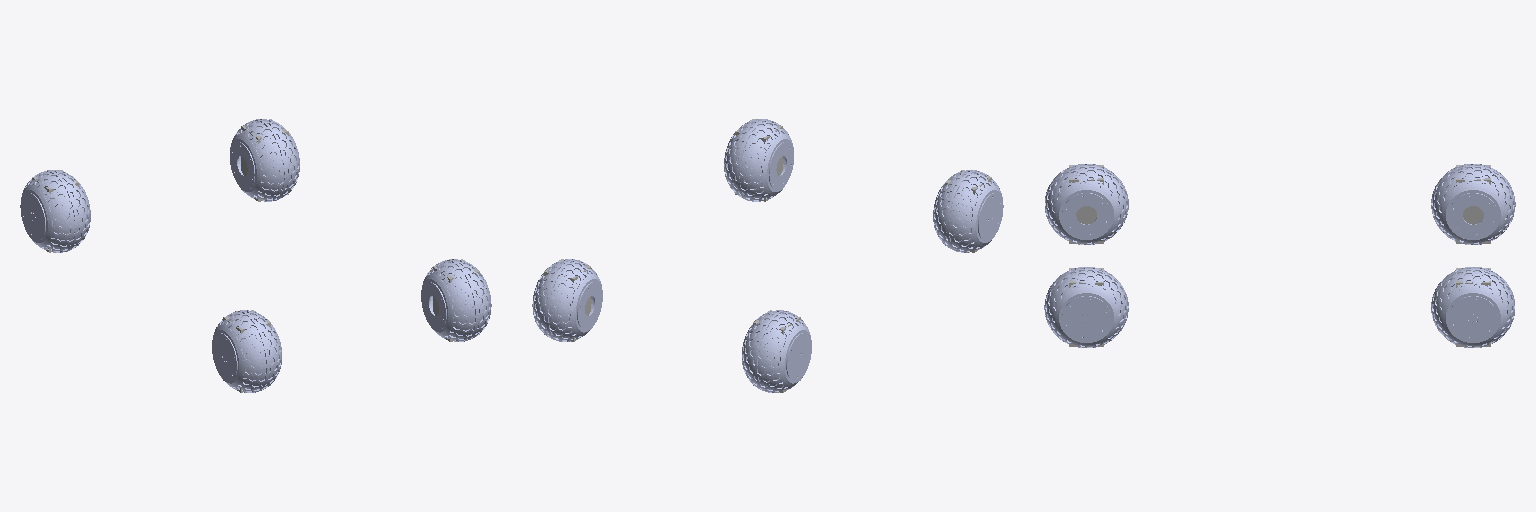
robot.urdf — Master_ASM:
<?xml version="1.0" encoding="utf-8"?>
<!-- This URDF was automatically created by SolidWorks to URDF Exporter! Originally created by [author] ([email redacted]) 
     Commit Version: 1.6.0-4-g7f85cfe  Build Version: 1.6.7995.38578
     For more information, please see http://wiki.ros.org/sw_urdf_exporter -->
<robot
  name="Master_ASM">
  <link
    name="base_link">
    <inertial>
      <origin
        xyz="0.0012829 -0.31468 -0.0059364"
        rpy="0 0 0" />
      <mass
        value="38.039" />
      <inertia
        ixx="0.51975"
        ixy="0.00069908"
        ixz="2.9544E-06"
        iyy="0.93889"
        iyz="-3.8081E-06"
        izz="0.5273" />
    </inertial>
    <visual>
      <origin
        xyz="0 0 0"
        rpy="0 0 0" />
      <geometry>
        <mesh
          filename="../meshes/base_link.STL" />
      </geometry>
      <material
        name="">
        <color
          rgba="0.79216 0.81961 0.93333 1" />
      </material>
    </visual>
    <collision>
      <origin
        xyz="0 0 -0.2" 
        rpy="0 0 0" /> <!-- -0.2 -->
      <geometry>
        <box size="0.73 1.4 0.6" />
      </geometry>
    </collision>
  </link>

  <joint name="camera_joint" type="fixed">
      <parent link="base_link"/>
      <child link="camera_link"/>
      <origin xyz="0.35 0 0.05" rpy="0 0 0"/>
  </joint>

  <link name="camera_link">
    <visual>
      <geometry>
        <mesh filename="../meshes/zed2i.stl" />
      </geometry>
      <material name="zed2i_mat">
        <color rgba="0.25 0.25 0.25 0.99"/>
      </material>
    </visual>
    <collision>
      <geometry>
        <mesh filename="../meshes/zed2i.stl" />
      </geometry>
    </collision>
  </link>

  <!-- <joint name="camera_optical_joint" type="fixed">
      <parent link="camera_link"/>
      <child link="camera_link_optical"/>
      <origin xyz="0 0 0" rpy="1.57 0 1.57"/>
  </joint>

  <link name="camera_link_optical"></link> -->
 
  <gazebo reference="camera_link">
      <sensor name="camera" type="camera">
          <pose> 0 0 0 0 0 0 </pose>
          <!-- <visualize>true</visualize> -->
          <update_rate>30</update_rate>
          <camera>
              <horizontal_fov>1.91986</horizontal_fov>
              <image>
                  <format>R8G8B8</format>
                  <width>1280</width>
                  <height>720</height>
              </image>
              <clip>
                  <near>0.05</near>
                  <far>8.0</far>
              </clip>
          </camera>
          <topic>camera</topic>
      </sensor>
  </gazebo>

  <link
    name="swerve1_Link">
    <inertial>
      <origin
        xyz="0.072878 0.028694 7.0574E-06"
        rpy="0 0 0" />
      <mass
        value="2.5211" />
      <inertia
        ixx="0.008233"
        ixy="5.8978E-05"
        ixz="5.7912E-08"
        iyy="0.006818"
        iyz="1.2459E-07"
        izz="0.0069443" />
    </inertial>
    <visual>
      <origin
        xyz="0 0 0"
        rpy="0 0 0" />
      <geometry>
        <box size="0.1 0.2 0.1" />
      </geometry>
      <material
        name="">
        <color
          rgba="0.75294 0.75294 0.75294 1" />
      </material>
    </visual>
  </link>
  <joint
    name="swerve1_joint"
    type="continuous"> <!-- continuous -->
    <origin
      xyz="-0.34701 0.55026 -0.59563"
      rpy="1.5708 0 0" />
    <parent
      link="base_link" />
    <child
      link="swerve1_Link" />
    <axis
      xyz="0 1 0" />
    <!-- <limit lower="6.28" upper="6.28" effort="30" velocity="1.0" /> -->
  </joint>
  <link
    name="wheel1_Link">
    <inertial>
      <origin
        xyz="2.9097E-09 -0.115 -0.00055956"
        rpy="0 0 0" />
      <mass
        value="1.1372" />
      <inertia
        ixx="0.0059462"
        ixy="1.6529E-09"
        ixz="-6.3363E-10"
        iyy="0.0059468"
        iyz="6.9163E-09"
        izz="0.0072591" />
    </inertial>
    <visual>
      <origin
        xyz="0 0.115 0"
        rpy="0 0 0" />
      <geometry>
        <mesh
          filename="../meshes/wheel_Link.STL" />
      </geometry>
      <material
        name="">
        <color
          rgba="0.79216 0.81961 0.93333 1" />
      </material>
    </visual>
    <collision>
      <origin
        xyz="0 0 0"
        rpy="0 0 0" />
      <geometry>
        <cylinder radius="0.115" length="0.2"/> 
      </geometry>
    </collision>
  </link>
  <joint
    name="wheel1_joint"
    type="continuous">
    <origin
      xyz="0 0 0"
      rpy="1.5708 0.34561 1.5708" />
    <parent
      link="swerve1_Link" />
    <child
      link="wheel1_Link" />
    <axis
      xyz="0 0 -1" />
  </joint>
  <link
    name="swerve2_Link">
    <inertial>
      <origin
        xyz="0.072878 0.028694 7.0574E-06"
        rpy="0 0 0" />
      <mass
        value="2.5211" />
      <inertia
        ixx="0.008233"
        ixy="5.8978E-05"
        ixz="5.7912E-08"
        iyy="0.006818"
        iyz="1.2459E-07"
        izz="0.0069443" />
    </inertial>
    <visual>
      <origin
        xyz="0 0 0"
        rpy="0 0 0" />
      <geometry>
        <box size="0.1 0.2 0.1" />
      </geometry>
      <material
        name="">
        <color
          rgba="0.75294 0.75294 0.75294 1" />
      </material>
    </visual>
  </link>
  <joint
    name="swerve2_joint"
    type="continuous"> <!-- continuous -->
    <origin
      xyz="0.34701 -0.55026 -0.59563"
      rpy="1.5708 0 3.1416" />
    <parent
      link="base_link" />
    <child
      link="swerve2_Link" />
    <axis
      xyz="0 1 0" />
    <!-- <limit lower="6.28" upper="6.28" effort="30" velocity="1.0" /> -->
  </joint>
  <link
    name="wheel2_Link">
    <inertial>
      <origin
        xyz="2.9097E-09 -0.115 -0.00055956"
        rpy="0 0 0" />
      <mass
        value="1.1372" />
      <inertia
        ixx="0.0059462"
        ixy="1.6529E-09"
        ixz="-6.3363E-10"
        iyy="0.0059468"
        iyz="6.9163E-09"
        izz="0.0072591" />
    </inertial>
    <visual>
      <origin
        xyz="0 0.115 0"
        rpy="0 0 0" />
      <geometry>
        <mesh
          filename="../meshes/wheel_Link.STL" />
      </geometry>
      <material
        name="">
        <color
          rgba="0.79216 0.81961 0.93333 1" />
      </material>
    </visual>
    <collision>
      <origin
        xyz="0 0 0"
        rpy="0 0 0" />
      <geometry>
        <!-- <mesh
          filename="package://Master_ASM/meshes/wheel2_Link.STL" /> -->
        <cylinder radius="0.115" length="0.2"/> 
      </geometry>
    </collision>
  </link>
  <joint
    name="wheel2_joint"
    type="continuous">
    <origin
      xyz="0 0 0"
      rpy="1.5708 0.34561 1.5708" />
    <parent
      link="swerve2_Link" />
    <child
      link="wheel2_Link" />
    <axis
      xyz="0 0 1" />
  </joint>
  <link
    name="swerve3_Link">
    <inertial>
      <origin
        xyz="0.072878 0.028694 7.0574E-06"
        rpy="0 0 0" />
      <mass
        value="2.5211" />
      <inertia
        ixx="0.008233"
        ixy="5.8978E-05"
        ixz="5.7912E-08"
        iyy="0.006818"
        iyz="1.2459E-07"
        izz="0.0069443" />
    </inertial>
    <visual>
      <origin
        xyz="0 0 0"
        rpy="0 0 0" />
      <geometry>
        <box size="0.1 0.2 0.1" />
      </geometry>
      <material
        name="">
        <color
          rgba="0.75294 0.75294 0.75294 1" />
      </material>
    </visual>
  </link>
  <joint
    name="swerve3_joint"
    type="continuous">
    <origin
      xyz="0.34701 0.55014 -0.59563"
      rpy="1.5708 0 3.1416" />
    <parent
      link="base_link" />
    <child
      link="swerve3_Link" />
    <axis
      xyz="0 1 0" />
  </joint>
  <link
    name="wheel3_Link">
    <inertial>
      <origin
        xyz="2.9097E-09 -0.115 -0.00055956"
        rpy="0 0 0" />
      <mass
        value="1.1372" />
      <inertia
        ixx="0.0059462"
        ixy="1.6529E-09"
        ixz="-6.3363E-10"
        iyy="0.0059468"
        iyz="6.9163E-09"
        izz="0.0072591" />
    </inertial>
    <visual>
      <origin
        xyz="0 0.115 0"
        rpy="0 0 0" />
      <geometry>
        <mesh
          filename="../meshes/wheel_Link.STL" />
      </geometry>
      <material
        name="">
        <color
          rgba="0.79216 0.81961 0.93333 1" />
      </material>
    </visual>
    <collision>
      <origin
        xyz="0 0 0"
        rpy="0 0 0" />
      <geometry>
        <cylinder radius="0.115" length="0.2"/> 
      </geometry>
    </collision>
  </link>
  <joint
    name="wheel3_joint"
    type="continuous">
    <origin
      xyz="0 0 0"
      rpy="1.5708 0.34561 1.5708" />
    <parent
      link="swerve3_Link" />
    <child
      link="wheel3_Link" />
    <axis
      xyz="0 0 1" />
  </joint>
  <link
    name="swerve4_Link">
    <inertial>
      <origin
        xyz="0.072878 0.028694 7.0574E-06"
        rpy="0 0 0" />
      <mass
        value="2.5211" />
      <inertia
        ixx="0.008233"
        ixy="5.8978E-05"
        ixz="5.7912E-08"
        iyy="0.006818"
        iyz="1.2459E-07"
        izz="0.0069443" />
    </inertial>
    <visual>
      <origin
        xyz="0 0 0"
        rpy="0 0 0" />
      <geometry>
        <box size="0.1 0.2 0.1" />
      </geometry>
      <material
        name="">
        <color
          rgba="0.75294 0.75294 0.75294 1" />
      </material>
    </visual>
  </link>
  <joint
    name="swerve4_joint"
     type="continuous"> 
    <origin
      xyz="-0.34701 -0.55014 -0.59563"
      rpy="1.5708 0 0" /> 
    <parent
      link="base_link" />
    <child
      link="swerve4_Link" />
    <axis
      xyz="0 1 0" />
  </joint>
  <link
    name="wheel4_Link">
    <inertial>
      <origin
        xyz="2.9097E-09 -0.115 -0.00055956"
        rpy="0 0 0" /> 
      <mass
        value="1.1372" />
      <inertia
        ixx="0.0059462"
        ixy="1.6529E-09"
        ixz="-6.3363E-10"
        iyy="0.0059468"
        iyz="6.9163E-09"
        izz="0.0072591" />
    </inertial>
    <visual>
      <origin
        xyz="0 0.115 0"
        rpy="0 0 0" />
      <geometry>
        <mesh
          filename="../meshes/wheel_Link.STL" />
      </geometry>
      <material
        name="">
        <color
          rgba="0.79216 0.81961 0.93333 1" />
      </material>
    </visual>
    <collision>
      <origin
        xyz="0 0 0"
        rpy="0 0 0" />
      <geometry>
        <cylinder radius="0.115" length="0.2"/> 
      </geometry>
    </collision>
  </link>
  <joint
    name="wheel4_joint"
    type="continuous">
    <origin
      xyz="0 0 0"
      rpy="1.5708 0.34561 1.5708" />
    <parent
      link="swerve4_Link" />
    <child
      link="wheel4_Link" />
    <axis
      xyz="0 0 -1" />
  </joint>

  <gazebo>
  <plugin
    filename="ignition-gazebo-joint-controller-system"
    name="ignition::gazebo::systems::JointController">
    <joint_name>wheel1_joint</joint_name>
    <initial_velocity>0.0</initial_velocity>
  </plugin>

  <plugin
    filename="ignition-gazebo-joint-controller-system"
    name="ignition::gazebo::systems::JointController">
    <joint_name>wheel2_joint</joint_name>
    <initial_velocity>0.0</initial_velocity>
  </plugin>

  <plugin
    filename="ignition-gazebo-joint-controller-system"
    name="ignition::gazebo::systems::JointController">
    <joint_name>wheel3_joint</joint_name>
    <initial_velocity>0.0</initial_velocity>
  </plugin>

  <plugin
    filename="ignition-gazebo-joint-controller-system"
    name="ignition::gazebo::systems::JointController">
    <joint_name>wheel4_joint</joint_name>
    <initial_velocity>0.0</initial_velocity>
  </plugin>
  </gazebo>

  <!-- model/Master_ASM/joint/{jointName}/cmd_vel -->
  <!--  ignition::msgs::Double, topic name and type for plugins -->
  <!-- model/Master_ASM/joint/{jointName}/0//cmd_pos -->

  <gazebo>
  <plugin
    filename="ignition-gazebo-joint-position-controller-system"
    name="ignition::gazebo::systems::JointPositionController">
    <joint_name>swerve1_joint</joint_name>
    <use_velocity_commands>true</use_velocity_commands>
    <cmd_max>15</cmd_max>
    <cmd_min>-15</cmd_min>
  </plugin>

  <plugin
    filename="ignition-gazebo-joint-position-controller-system"
    name="ignition::gazebo::systems::JointPositionController">
    <joint_name>swerve2_joint</joint_name>
    <use_velocity_commands>true</use_velocity_commands>
    <cmd_max>15</cmd_max>
    <cmd_min>-15</cmd_min>
  </plugin>

  <plugin
    filename="ignition-gazebo-joint-position-controller-system"
    name="ignition::gazebo::systems::JointPositionController">
    <joint_name>swerve3_joint</joint_name>
    <use_velocity_commands>true</use_velocity_commands>
    <cmd_max>15</cmd_max>
    <cmd_min>-15</cmd_min>
  </plugin>

  <plugin
    filename="ignition-gazebo-joint-position-controller-system"
    name="ignition::gazebo::systems::JointPositionController">
    <joint_name>swerve4_joint</joint_name>
    <use_velocity_commands>true</use_velocity_commands>
    <cmd_max>15</cmd_max>
    <cmd_min>-15</cmd_min>
  </plugin>
  </gazebo>

</robot>

--- What the picture shows (computed from the rendered views, not written in the file) ---
3 views of the same robot in one strip: view 1: azimuth 30°, elevation 25°; view 2: azimuth 150°, elevation 25°; view 3: azimuth 270°, elevation 25° (orthographic).
Robot: Master_ASM — 10 links, 9 joints (8 continuous, 1 fixed); root link base_link; default pose: all joints at 0.
Links seen in each view (by area): view 1: wheel1_Link, wheel4_Link, wheel2_Link, wheel3_Link; view 2: wheel4_Link, wheel1_Link, wheel3_Link, wheel2_Link; view 3: wheel2_Link, wheel3_Link, wheel1_Link, wheel4_Link.
Link boxes in pixels (x1,y1,x2,y2): wheel1_Link: (20, 170, 90, 252); wheel4_Link: (212, 310, 281, 392); wheel2_Link: (421, 259, 491, 341); wheel3_Link: (230, 119, 299, 201); wheel4_Link: (933, 170, 1003, 252); wheel1_Link: (742, 310, 811, 392); wheel3_Link: (532, 259, 602, 341); wheel2_Link: (724, 119, 793, 201); wheel2_Link: (1044, 267, 1128, 347); wheel3_Link: (1431, 267, 1514, 347); wheel1_Link: (1431, 164, 1515, 244); wheel4_Link: (1045, 164, 1128, 244).
Bounding box of the posed robot: 0.8433 × 1.34 × 0.2402 m (x, y, z).
4 mesh visuals loaded from 3 distinct referenced files (1 binary STL); not drawn: 2 (reference not matched to a file when rendering).
